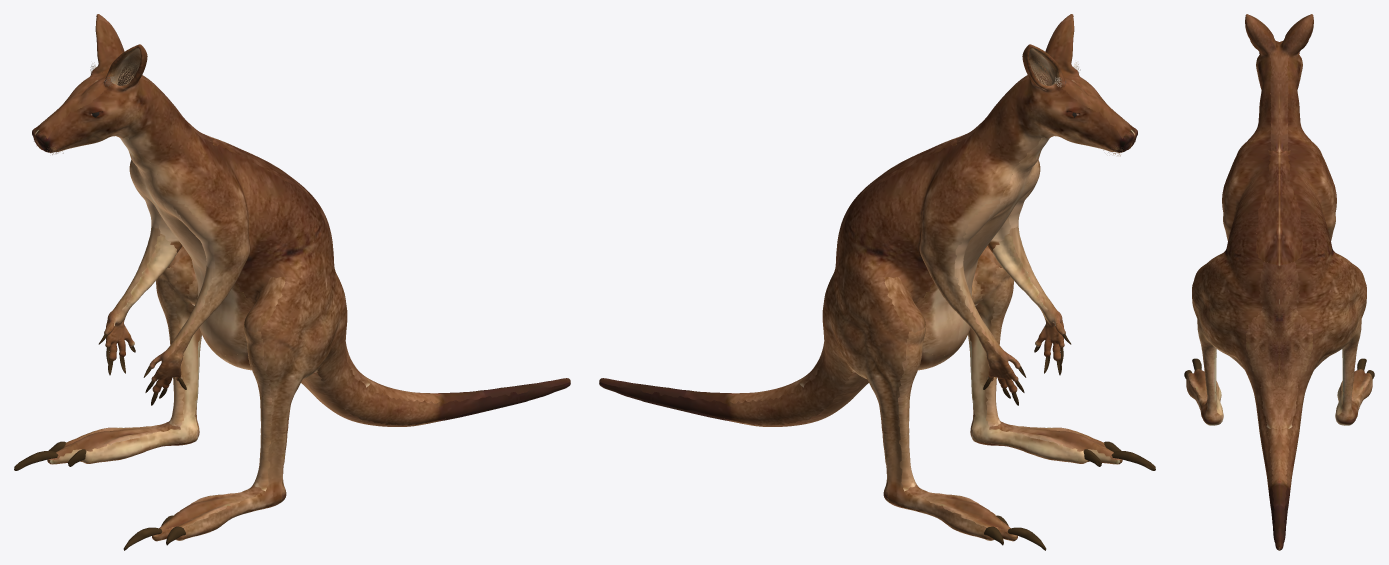
File: canguro-rojo.glb
The picture shows the model from 3 angles, left to right: view 1: azimuth 30°, elevation 25°; view 2: azimuth 150°, elevation 25°; view 3: azimuth 270°, elevation 25°; orthographic projection. The views are drawn at different scales.
Parts seen in each view (by area): view 1: 01kangaroo; view 2: 01kangaroo; view 3: 01kangaroo.
Part boxes in pixels (left/top/right/bottom): 01kangaroo: left=32, top=14, right=570, bottom=541; 01kangaroo: left=599, top=14, right=1137, bottom=541; 01kangaroo: left=1186, top=14, right=1372, bottom=550.
Bounding box in the file's own units: 0.6338 × 0.5326 × 0.2495.
Materials: 11 (9 with a texture image).
